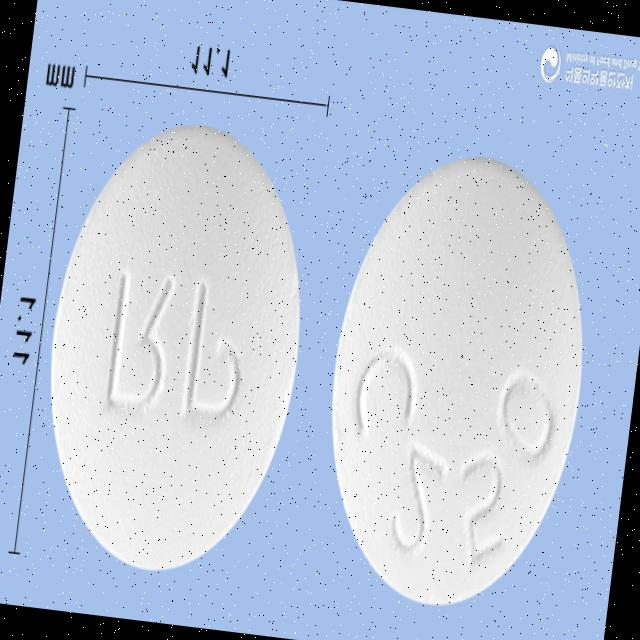RP Ciprok Tab: (306, 144, 606, 621), (25, 112, 324, 588)
